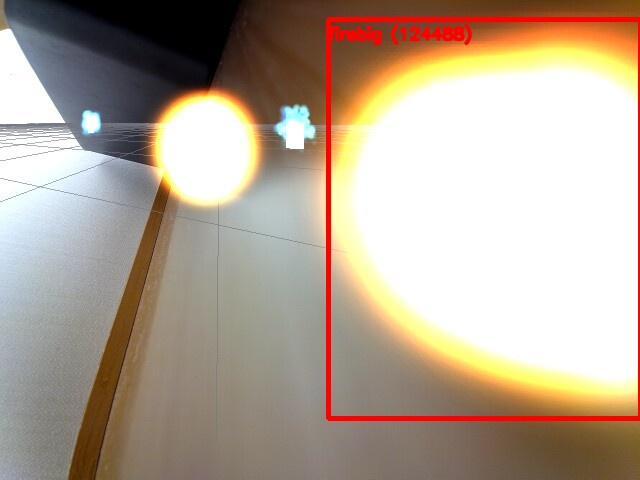firebig: (328, 19, 640, 418)
